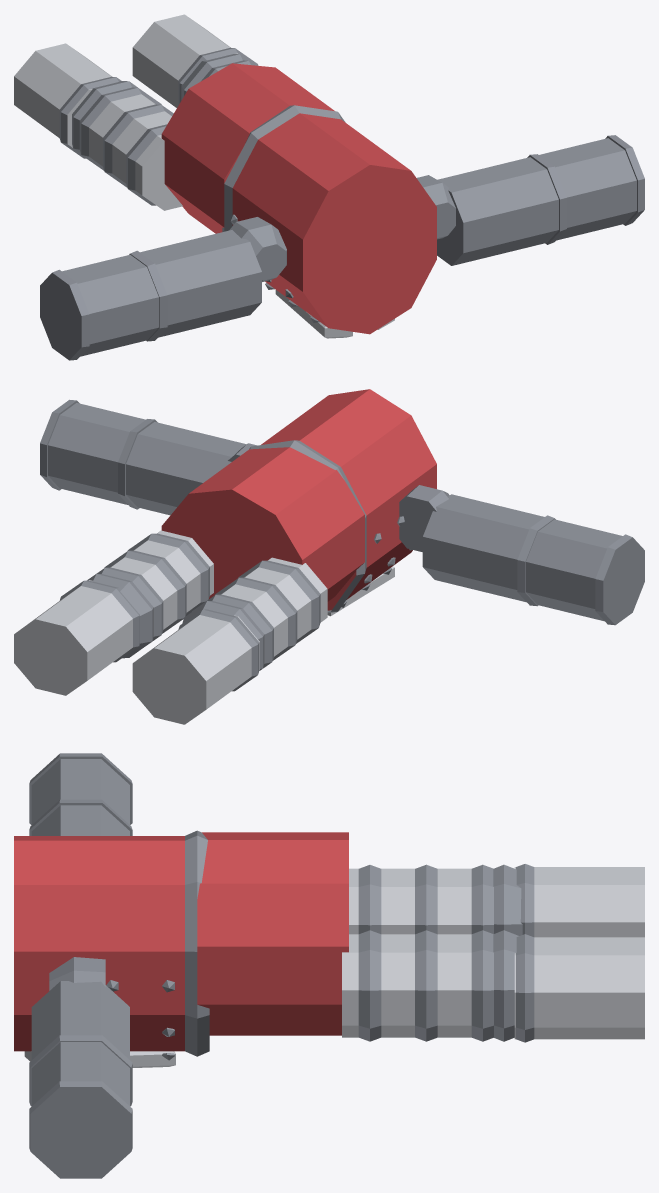
The model's file is armor_brigandine.glb.
3 renders of one model, top to bottom at view 1: azimuth 30°, elevation 25°; view 2: azimuth 150°, elevation 25°; view 3: azimuth 270°, elevation 25°, orthographic. The views are drawn at different scales.
Parts seen in each view (by area): view 1: Torso, Abdomen, UpperArmL, LowerArmR, UpperArmR, UpperLegR, LowerArmL, LowerLegR, LowerLegL, UpperLegL; view 2: Abdomen, Torso, LowerArmR, UpperArmR, LowerLegR, LowerLegL, UpperLegL, LowerArmL, UpperLegR, UpperArmL; view 3: Torso, Abdomen, UpperLegL, LowerLegL, LowerArmL, UpperLegR, LowerLegR, UpperArmL, LowerArmR, UpperArmR.
Boxes of the visible parts, <box> form: Torso: <box>222,105,436,338</box>; Abdomen: <box>161,63,334,233</box>; UpperArmL: <box>416,157,558,265</box>; LowerArmR: <box>40,250,167,360</box>; UpperArmR: <box>140,217,286,337</box>; UpperLegR: <box>72,81,182,210</box>; LowerArmL: <box>527,135,644,244</box>; LowerLegR: <box>14,43,121,158</box>; LowerLegL: <box>132,14,258,107</box>; UpperLegL: <box>181,54,255,100</box>; Abdomen: <box>161,447,364,601</box>; Torso: <box>249,389,436,616</box>; LowerArmR: <box>517,515,644,625</box>; UpperArmR: <box>399,485,544,602</box>; LowerLegR: <box>132,609,259,724</box>; LowerLegL: <box>14,580,139,695</box>; UpperLegL: <box>87,530,213,658</box>; LowerArmL: <box>40,399,157,509</box>; UpperLegR: <box>182,557,327,670</box>; UpperArmL: <box>126,422,257,515</box>; Torso: <box>14,830,209,1067</box>; Abdomen: <box>197,832,348,1035</box>; UpperLegL: <box>342,930,518,1041</box>; LowerLegL: <box>514,934,644,1042</box>; LowerArmL: <box>29,1035,132,1178</box>; UpperLegR: <box>349,864,522,935</box>; LowerLegR: <box>514,864,644,937</box>; UpperArmL: <box>31,957,129,1059</box>; LowerArmR: <box>29,753,132,835</box>; UpperArmR: <box>31,805,129,835</box>.
Bounding box in the file's own units: 2.24 × 0.6801 × 1.79.
